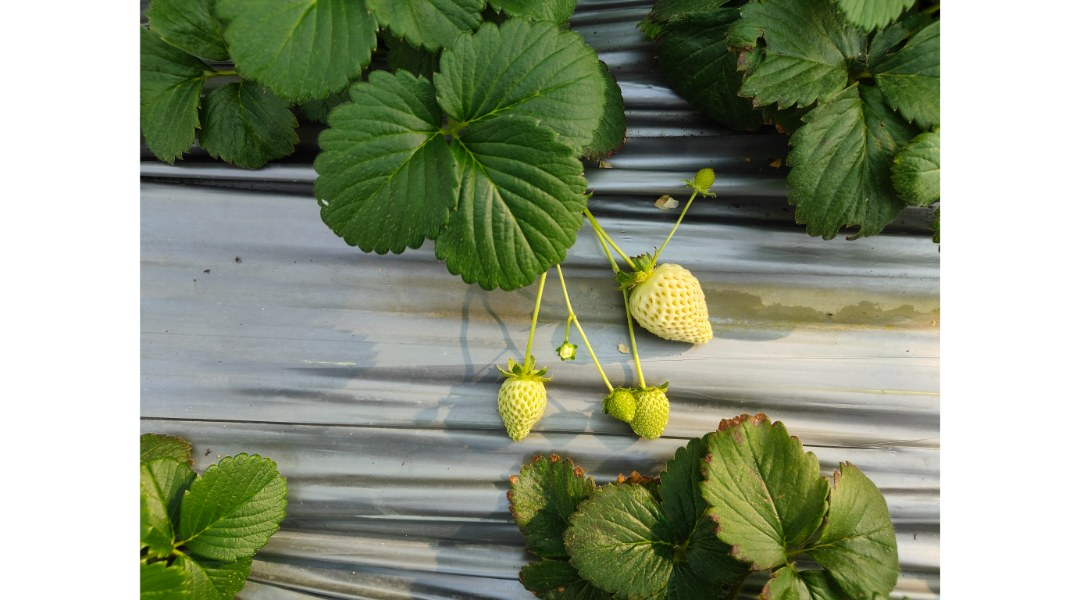berry: (629, 253, 722, 348), (491, 359, 552, 448), (629, 374, 668, 435), (682, 159, 727, 210), (600, 378, 641, 419), (550, 335, 584, 364)
strain: (558, 267, 613, 391), (651, 198, 698, 272), (524, 261, 549, 372)
